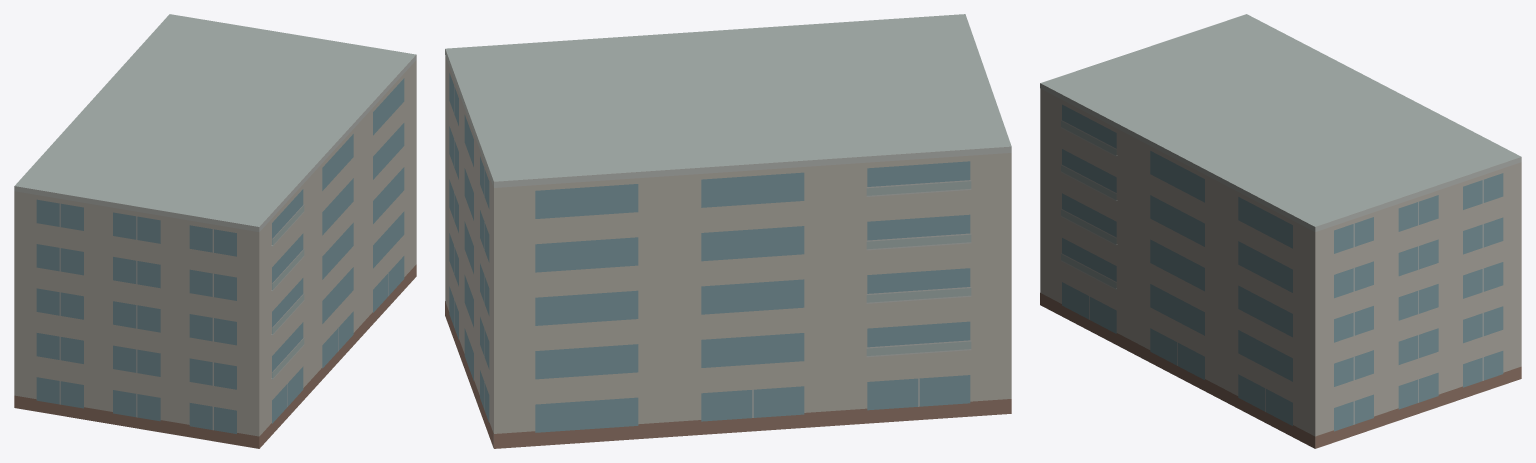
The model's file is survey-upis-32908817.glb.
3 views of the same model, side by side, from view 1: azimuth 30°, elevation 25°; view 2: azimuth 150°, elevation 25°; view 3: azimuth 270°, elevation 25° (orthographic). The views are drawn at different scales.
Visible parts, largest first — view 1: survey-upis-32908817.tmp; view 2: survey-upis-32908817.tmp; view 3: survey-upis-32908817.tmp.
Boxes of the visible parts, x1,y1,x2,y2 form: survey-upis-32908817.tmp: (14,14,416,448); survey-upis-32908817.tmp: (445,14,1011,448); survey-upis-32908817.tmp: (1040,14,1521,448).
Bounding box in the file's own units: 21.41 × 10.4 × 20.46.
